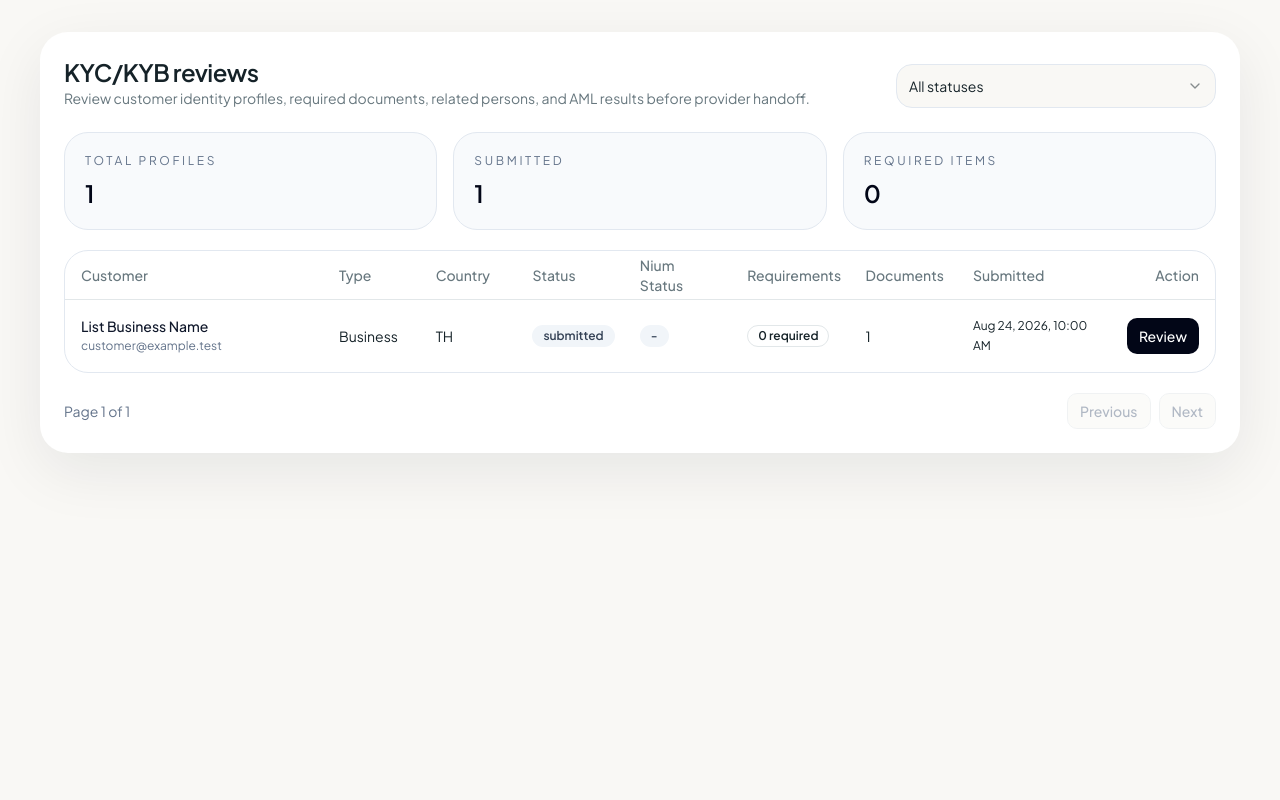
Test: shows correction document fetch failures without opening a blank tab
Click the button "Review". click: x=1163, y=336
box: [1127,318,1199,354]
(page scrolled)
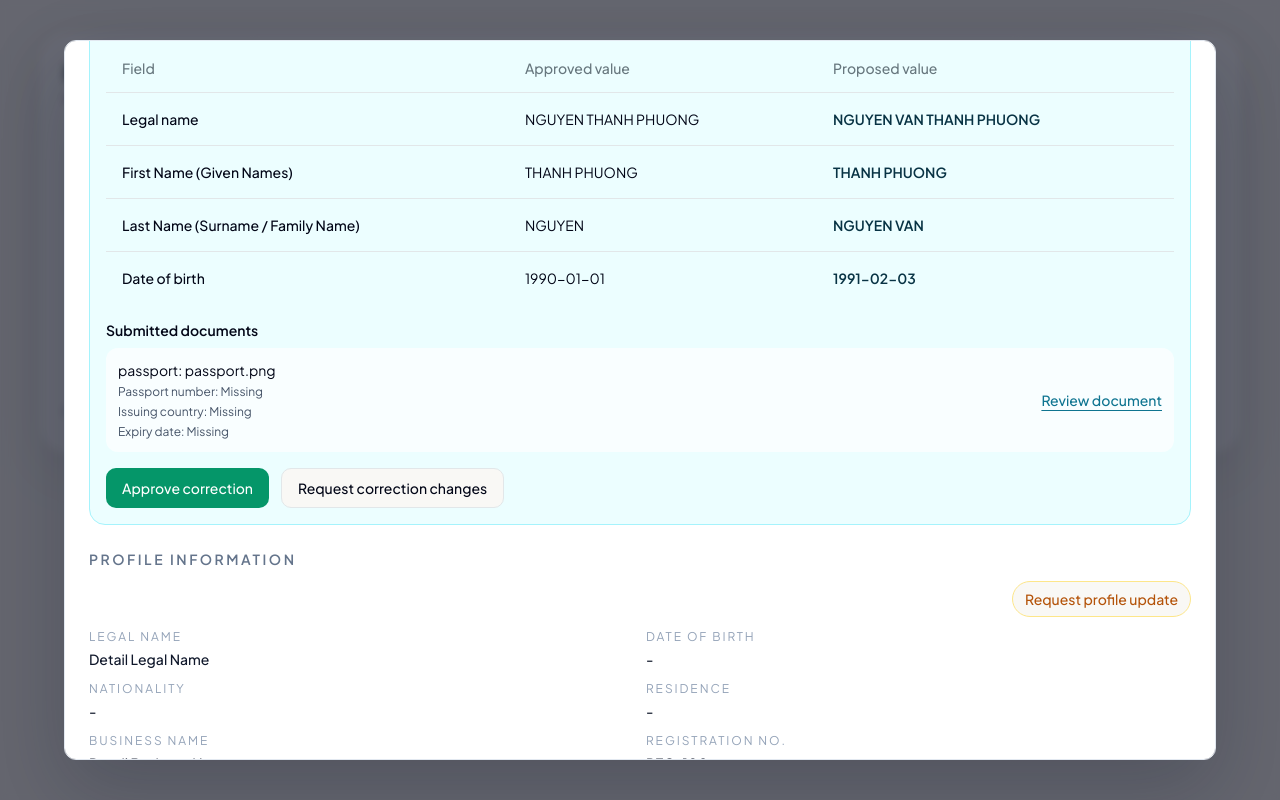
Click the button "Review document". click: x=1102, y=400
box: [1041,390,1162,410]
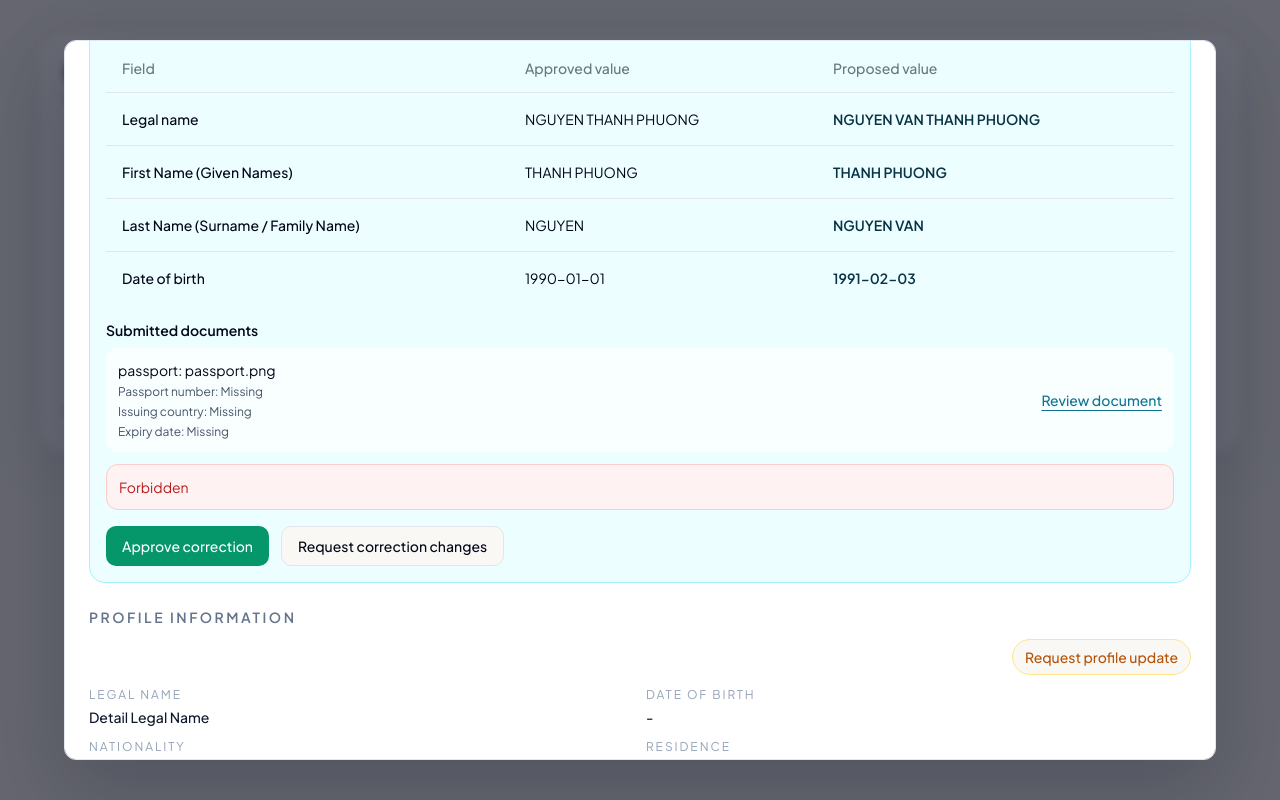
Check: the message reads "Forbidden", box [119,478,189,496]
